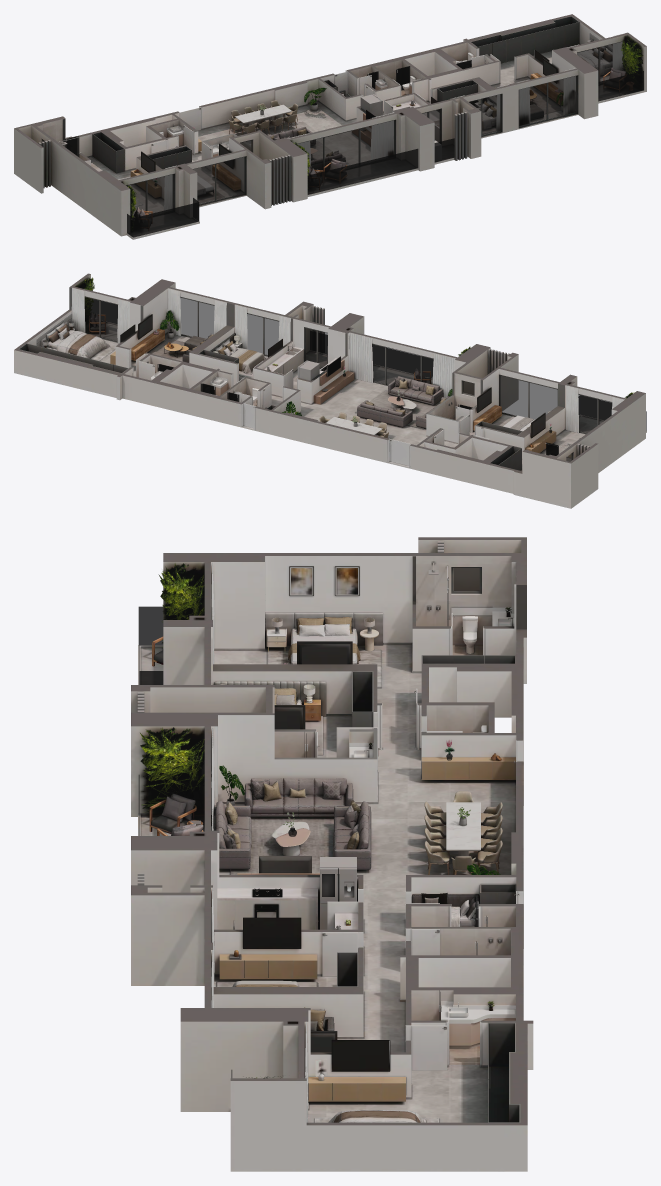
The model's file is flat_room.glb.
3 views of the same model, one above another, from view 1: azimuth 30°, elevation 25°; view 2: azimuth 150°, elevation 25°; view 3: azimuth 270°, elevation 25° (orthographic). The views are drawn at different scales.
Visible parts, largest first — view 1: Object_8, Object_4, Object_6, Object_11; view 2: Object_8, Object_4, Object_6, Object_13, Object_11; view 3: Object_8, Object_6, Object_11, Object_4.
Boxes of the visible parts, <box> form: Object_8: <box>14,14,646,239</box>; Object_4: <box>43,42,643,237</box>; Object_6: <box>134,48,625,222</box>; Object_11: <box>127,38,643,229</box>; Object_8: <box>14,273,646,508</box>; Object_4: <box>84,297,646,461</box>; Object_6: <box>46,311,571,457</box>; Object_13: <box>160,310,551,434</box>; Object_11: <box>78,277,634,398</box>; Object_8: <box>131,537,533,1171</box>; Object_6: <box>161,617,479,1122</box>; Object_11: <box>140,563,281,1078</box>; Object_4: <box>138,568,487,1077</box>.
Bounding box in the file's own units: 31.56 × 2.72 × 9.95.
Materials: 5 (4 with a texture image).
